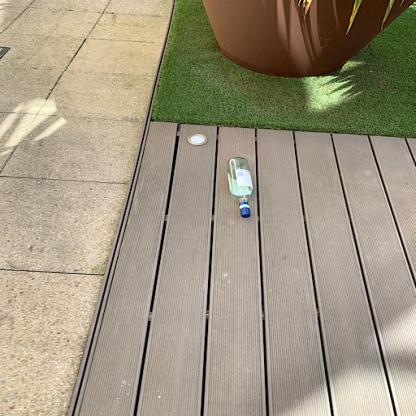trash: (223, 156, 254, 222)
